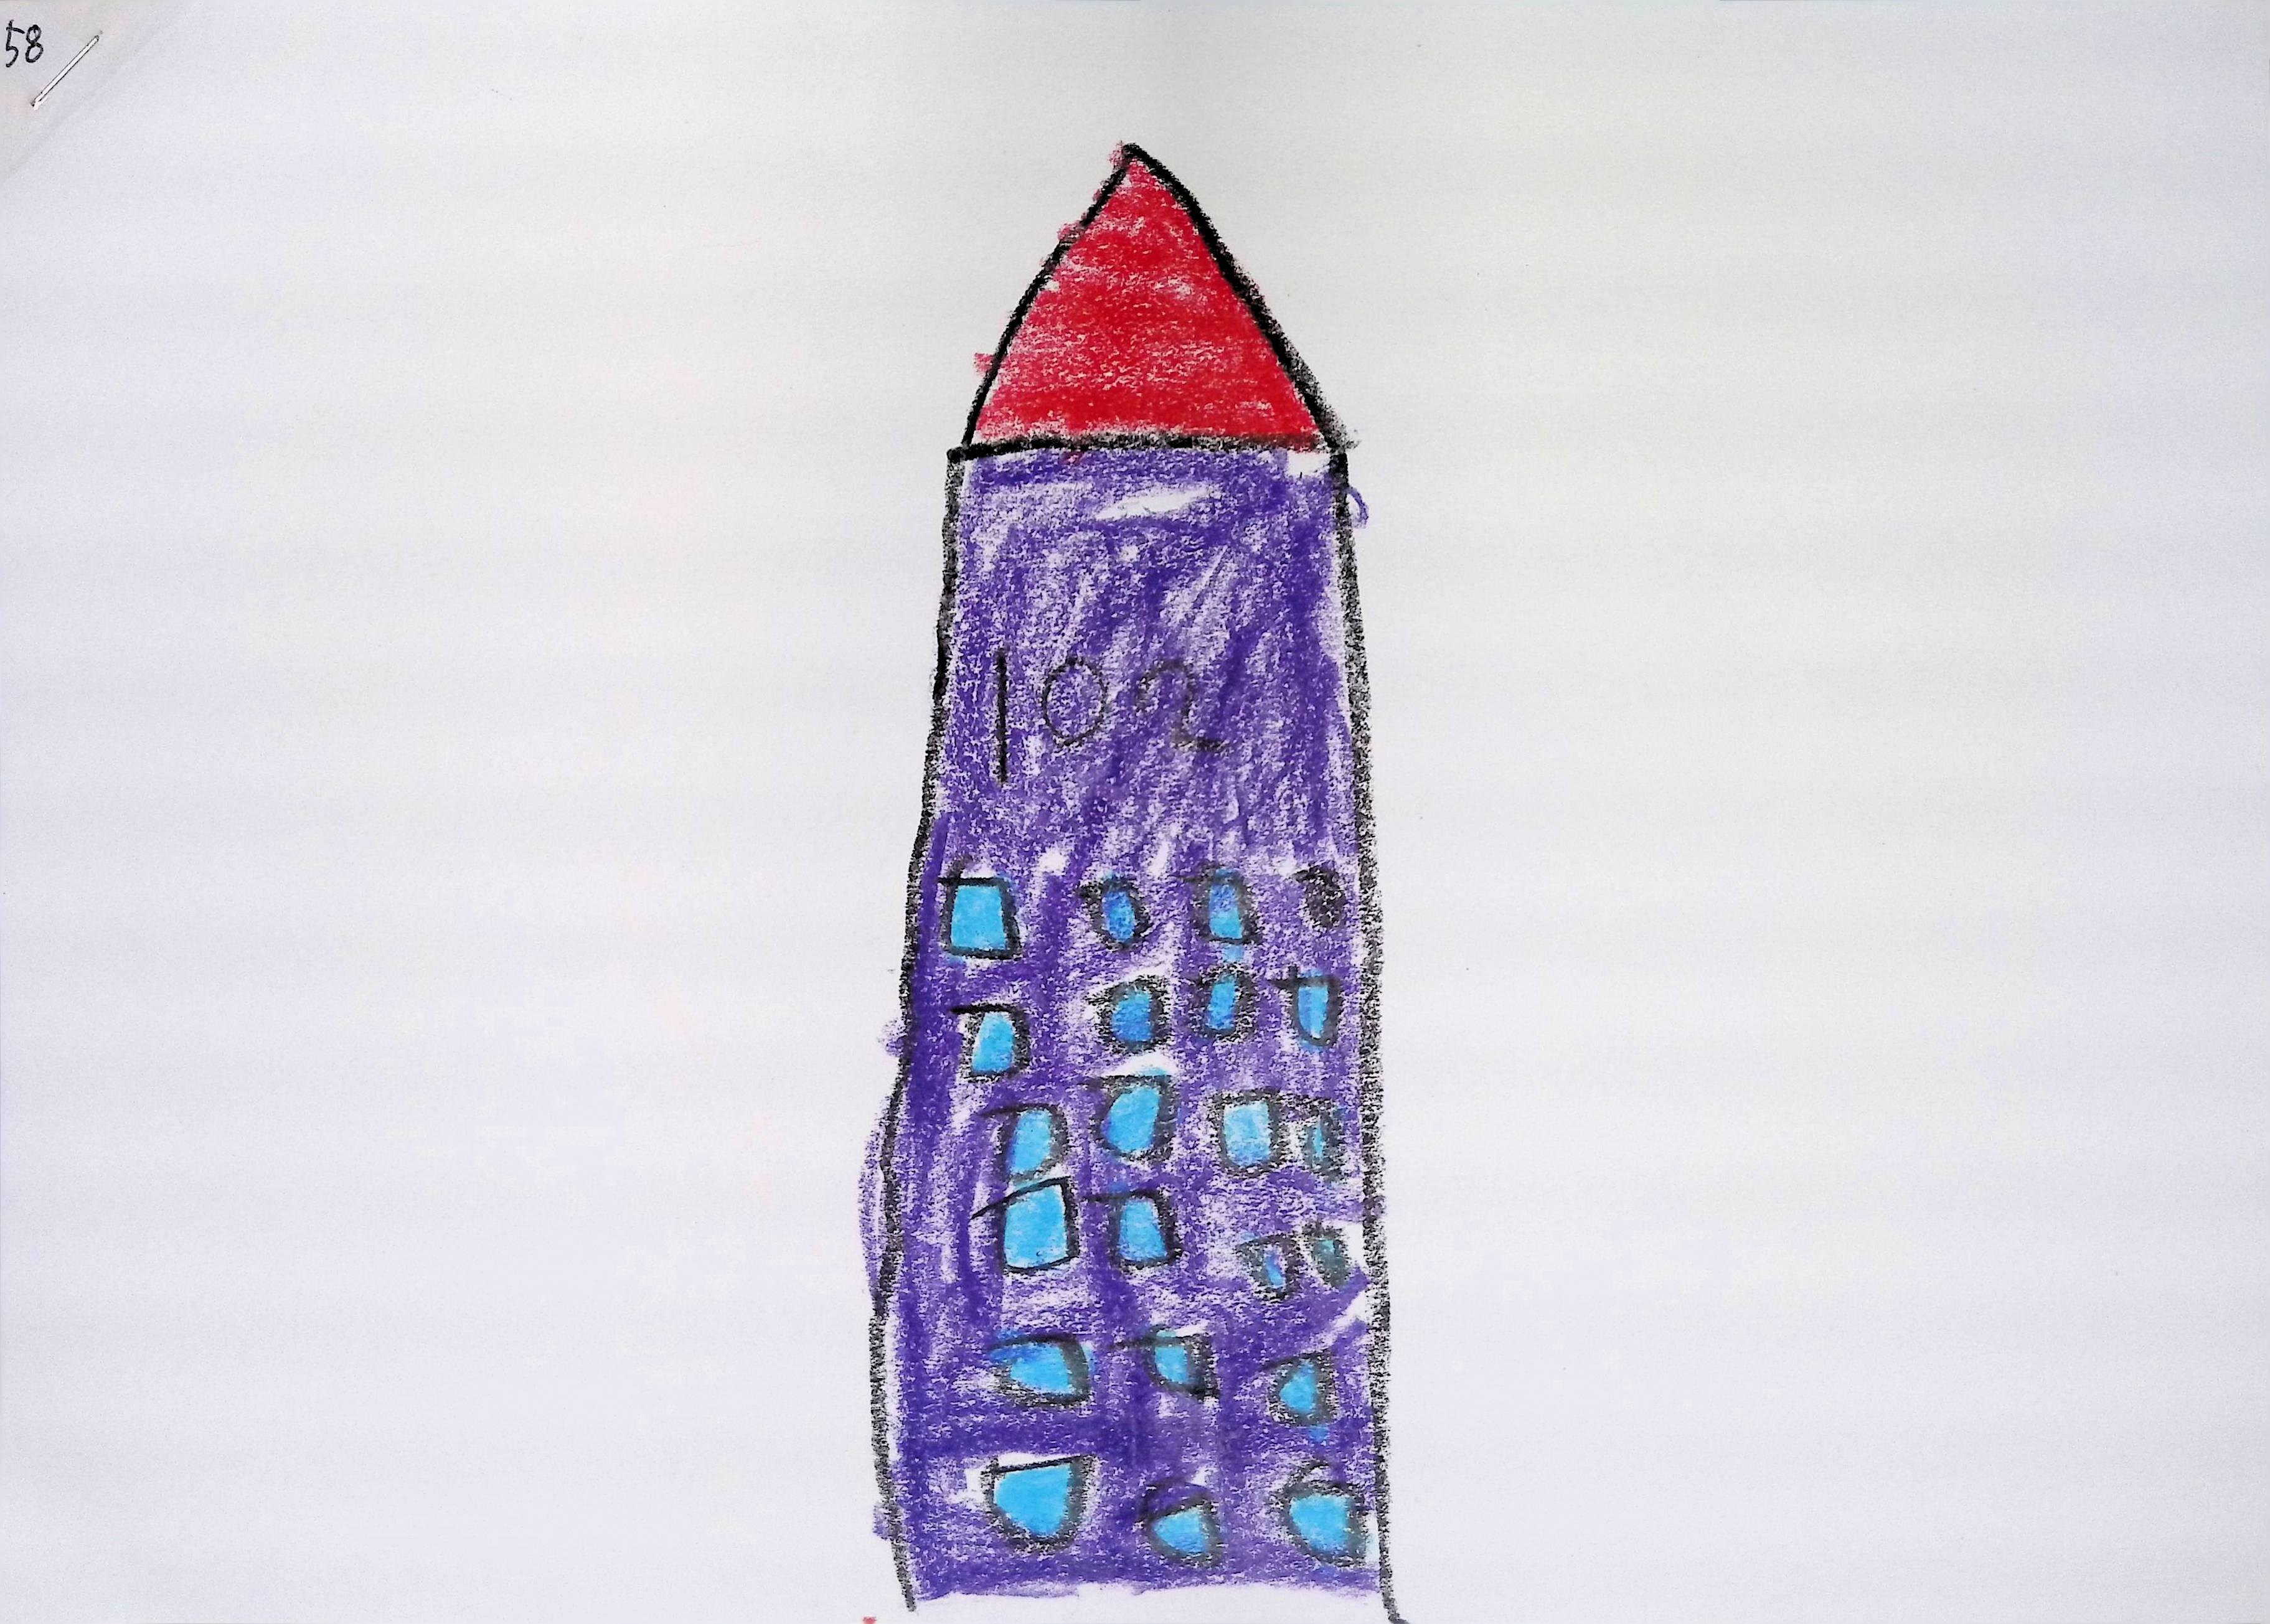house: (863, 142, 1391, 1608)
roof: (971, 155, 1321, 439)
wall: (879, 439, 1401, 1624)
window: (981, 1452, 1083, 1550), (1120, 1309, 1210, 1403), (986, 1183, 1080, 1269), (990, 1329, 1080, 1411), (1282, 1469, 1359, 1564), (1104, 1183, 1182, 1269), (1132, 1490, 1211, 1573), (1262, 1352, 1331, 1436), (1211, 1084, 1275, 1174), (1189, 858, 1247, 949), (997, 1093, 1060, 1176), (1090, 859, 1152, 944), (946, 875, 1011, 954), (964, 993, 1029, 1072), (1101, 1081, 1164, 1158), (1097, 977, 1162, 1048), (1298, 1102, 1349, 1185), (1289, 859, 1345, 933), (1196, 967, 1250, 1039), (1240, 1237, 1298, 1302), (1282, 967, 1324, 1048), (1310, 1218, 1354, 1287)
